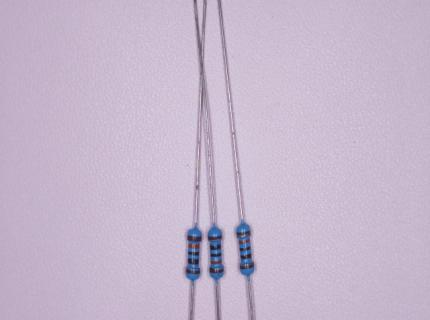Black band: (240, 252, 251, 259), (187, 258, 198, 265), (188, 251, 199, 256), (240, 246, 251, 251), (210, 245, 220, 250), (211, 253, 221, 257)
Brown band: (240, 263, 254, 270), (187, 235, 202, 241), (210, 267, 224, 273), (237, 230, 250, 236), (186, 269, 200, 274), (209, 235, 221, 240)
Orange band: (238, 238, 250, 244), (188, 244, 199, 249), (211, 260, 221, 265)
